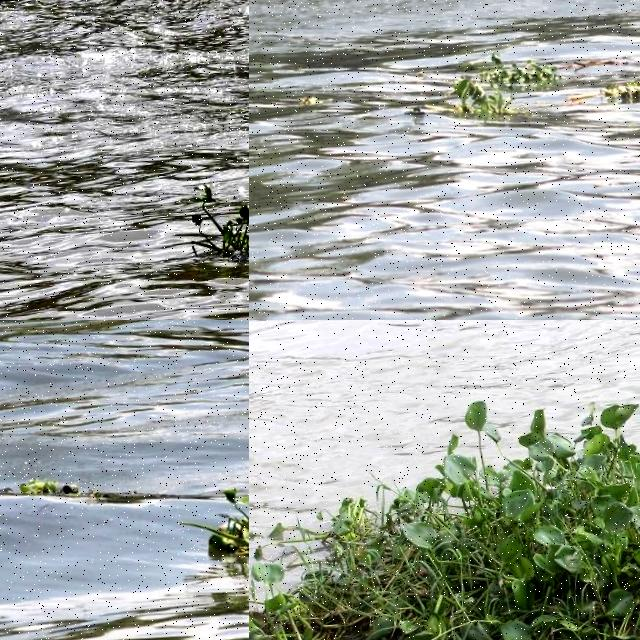water-hyacinth: (250, 376, 640, 639), (183, 176, 250, 264), (412, 72, 512, 130), (484, 54, 557, 93), (596, 72, 640, 110)
